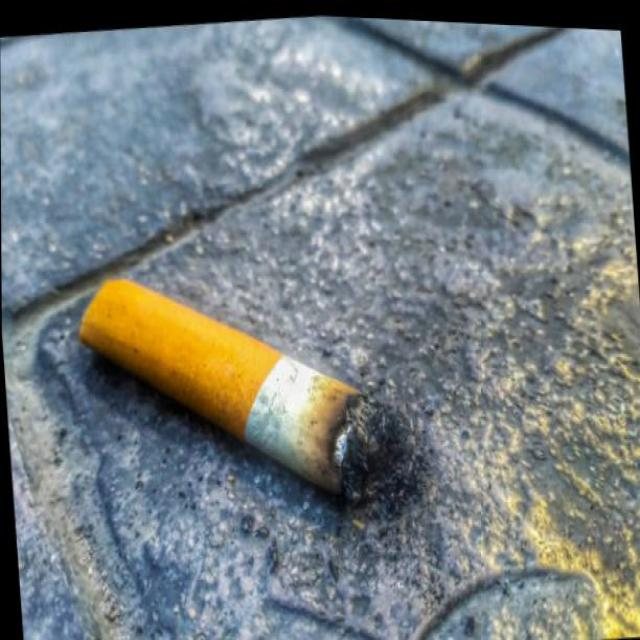cigarette: (69, 231, 420, 541)
